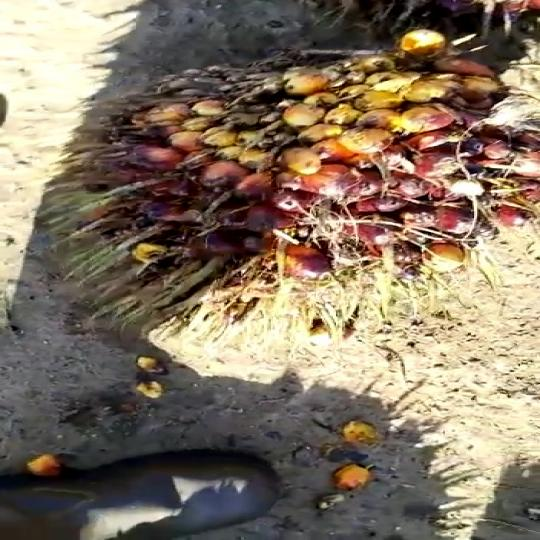masak: (74, 36, 540, 330)
